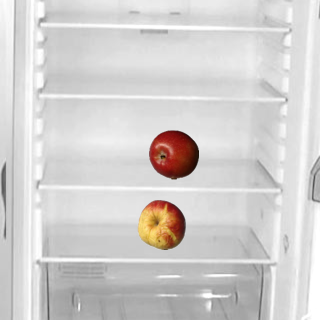Apple Braeburn: (148, 129, 198, 179)
Apple Red Yellow 1: (136, 199, 186, 249)
